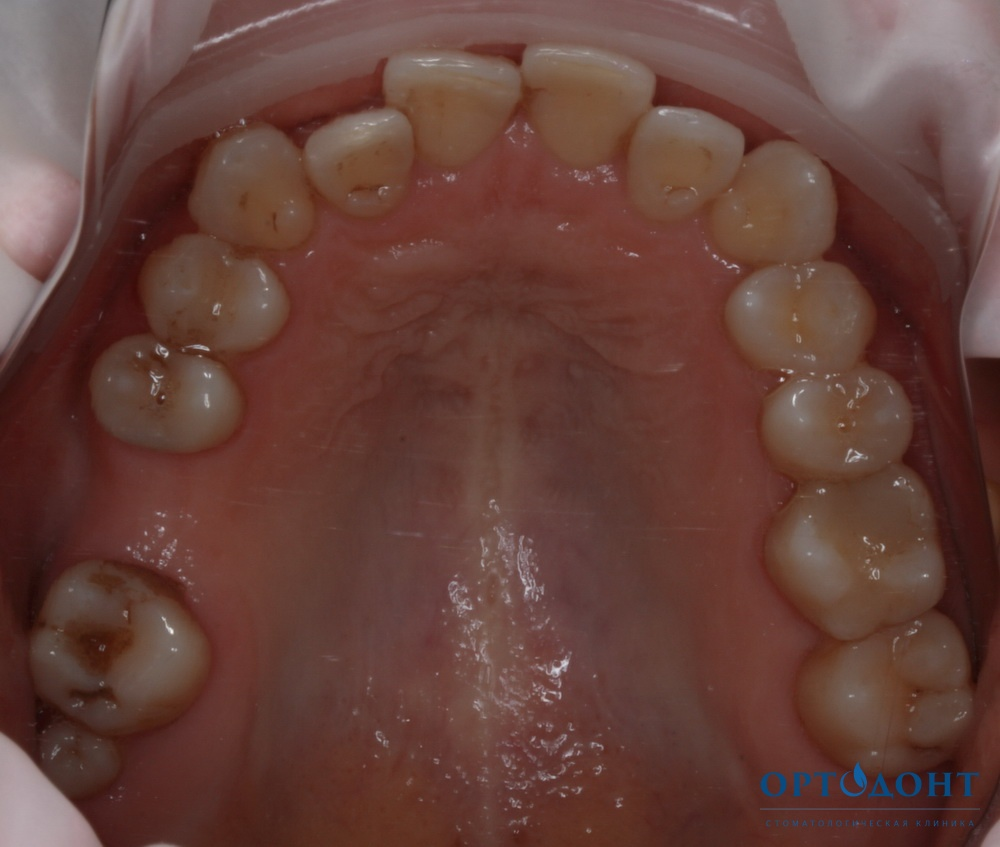UL1BC_healthy: (723, 258, 871, 382)
UL1M_healthy: (763, 472, 945, 645)
UL2BC_healthy: (756, 366, 916, 481)
UL2M_healthy: (793, 609, 972, 755)
ULCI_healthy: (523, 44, 632, 169)
ULC_healthy: (702, 148, 834, 270)
ULLI_healthy: (612, 109, 741, 217)
UR1BC_decay: (139, 232, 288, 359)
UR2BC_decay: (98, 347, 241, 458)
UR2M_decay: (42, 555, 209, 741)
URCI_healthy: (375, 52, 526, 125)
URC_decay: (195, 129, 320, 249)
URLI_decay: (307, 97, 404, 217)
